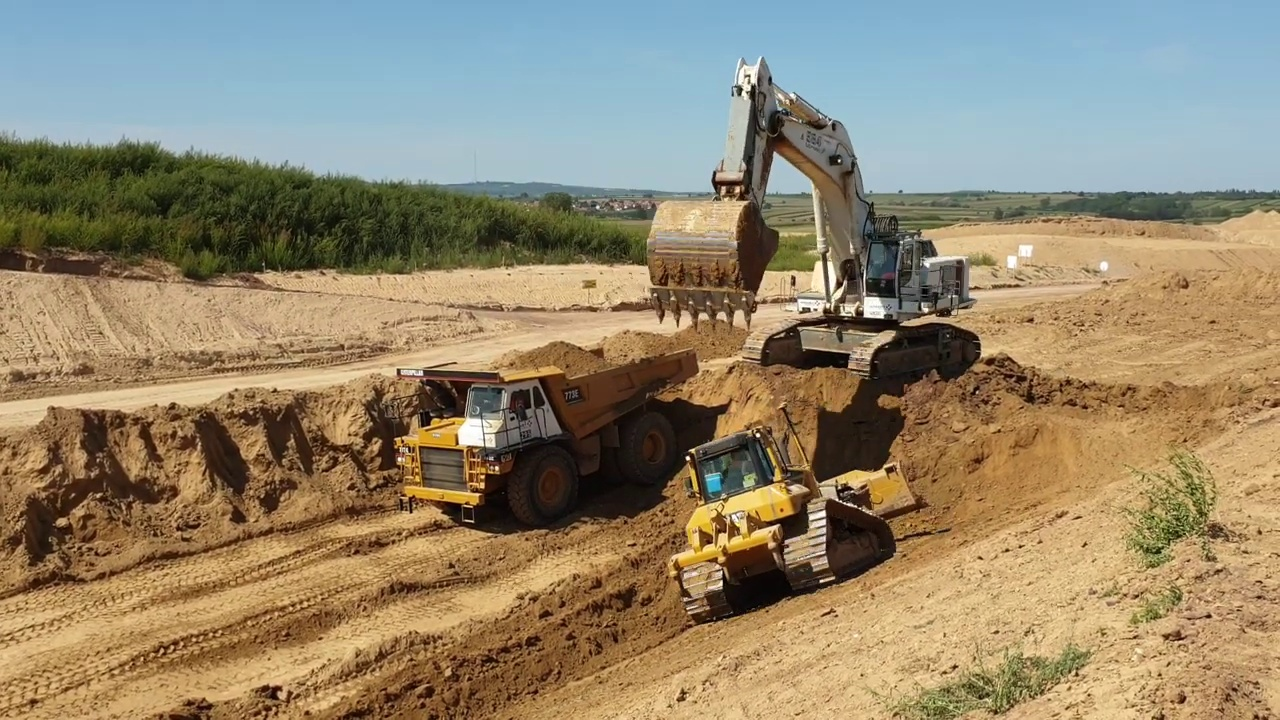bulldozer: (668, 399, 923, 627)
excavator: (643, 52, 981, 393)
truck: (391, 344, 699, 536)
